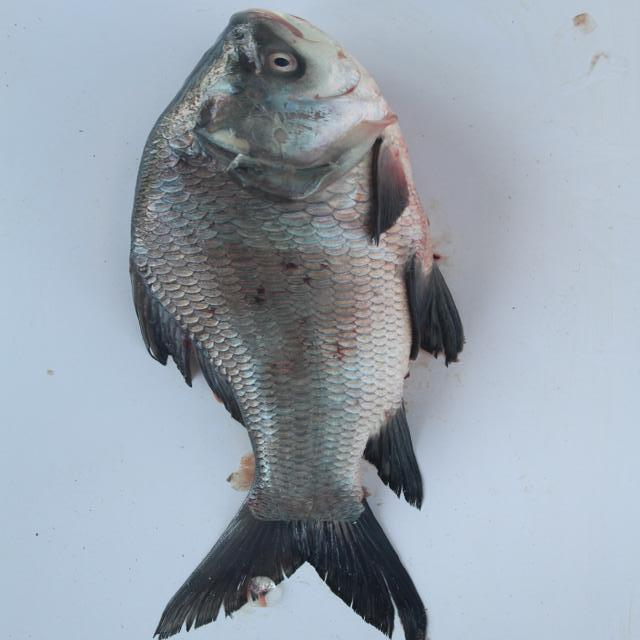Catla: (133, 4, 463, 640)
